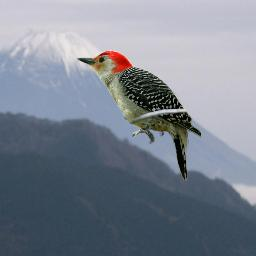Woodpecker: (77, 50, 201, 182)
